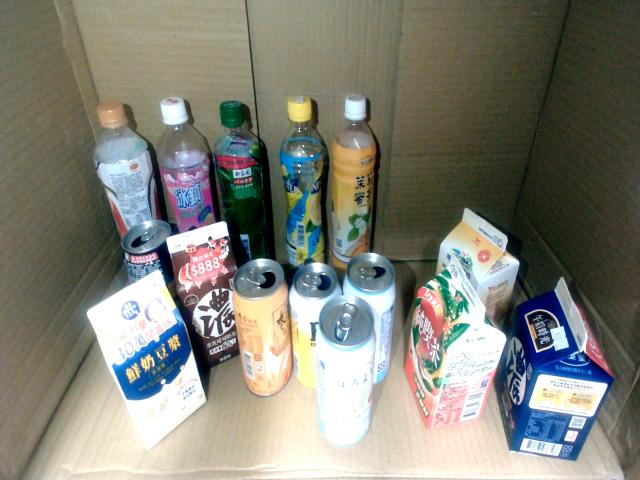Canned_drinks: (316, 293, 377, 447), (232, 258, 294, 399), (288, 261, 343, 390), (344, 252, 396, 385), (120, 219, 180, 309)
bottle: (92, 99, 164, 246), (213, 99, 270, 268), (156, 96, 220, 240), (279, 94, 328, 280), (331, 94, 376, 289)
